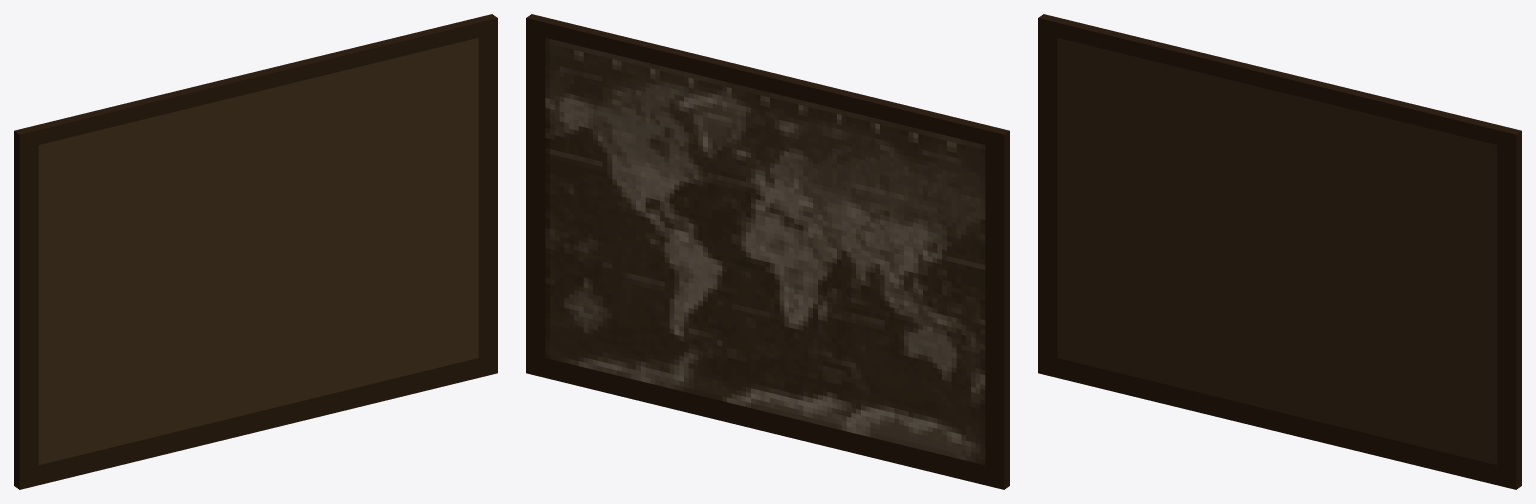
Rendered from 1980s Framed WorldMap.fbx.
3 views of the same model, side by side, from view 1: azimuth 30°, elevation 25°; view 2: azimuth 150°, elevation 25°; view 3: azimuth 330°, elevation 25° (orthographic).
Parts seen in each view (by area): view 1: WorldMap_WallPicture_Big; view 2: WorldMap_WallPicture_Big; view 3: WorldMap_WallPicture_Big.
Part boxes in pixels (x1=…): WorldMap_WallPicture_Big: x1=14, y1=14, x2=497, y2=489; WorldMap_WallPicture_Big: x1=526, y1=14, x2=1009, y2=489; WorldMap_WallPicture_Big: x1=1038, y1=14, x2=1521, y2=489.
Bounding box in the file's own units: 10000 × 7100 × 200.
